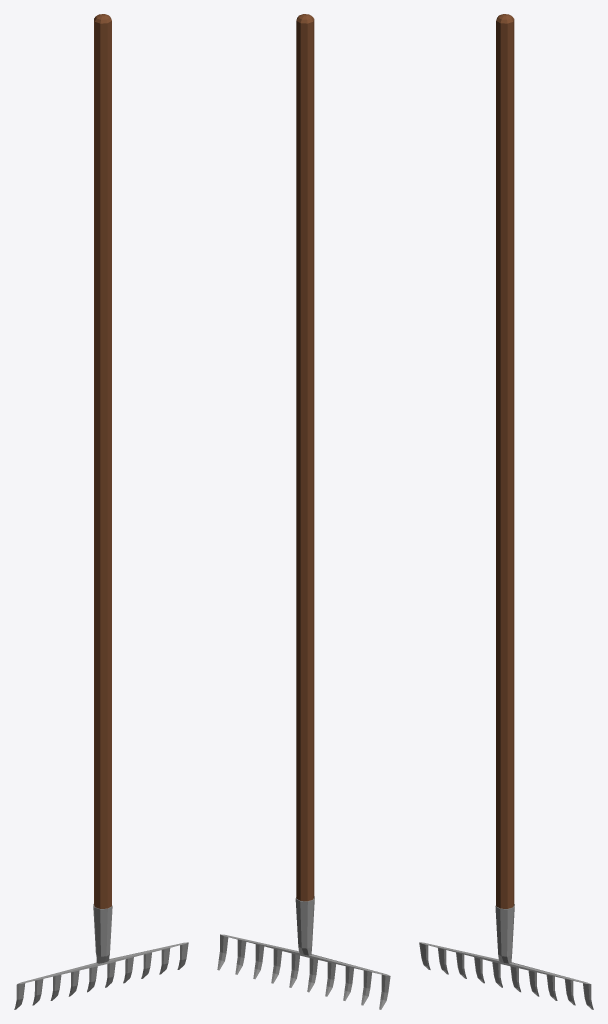
Rendered from rake01.obj.
3 renders of one model, left to right at view 1: azimuth 30°, elevation 25°; view 2: azimuth 150°, elevation 25°; view 3: azimuth 330°, elevation 25°, orthographic.
Visible parts, largest first — view 1: Cylinder; view 2: Cylinder; view 3: Cylinder.
Part boxes in pixels (left/top/right/bottom): Cylinder: left=14, top=14, right=188, bottom=1009; Cylinder: left=217, top=14, right=390, bottom=1009; Cylinder: left=419, top=14, right=593, bottom=1009.
Bounding box in the file's own units: 0.2847 × 1.55 × 0.0319.
Materials: 1 (1 with a texture image).
